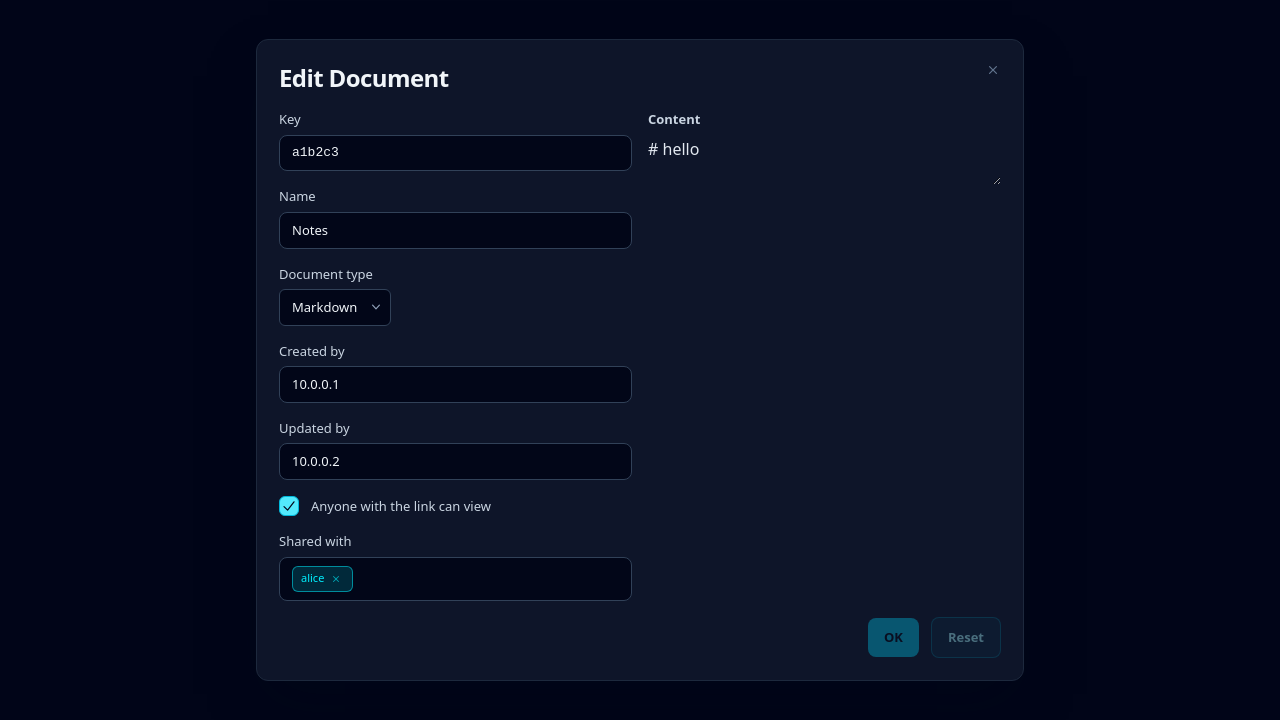
Scenario: EditDocumentDialog › reset restores the original share list
This screenshot has width=1280, height=720.
Click the button named "Remove alice".
click(336, 579)  # box [324,567,348,591]
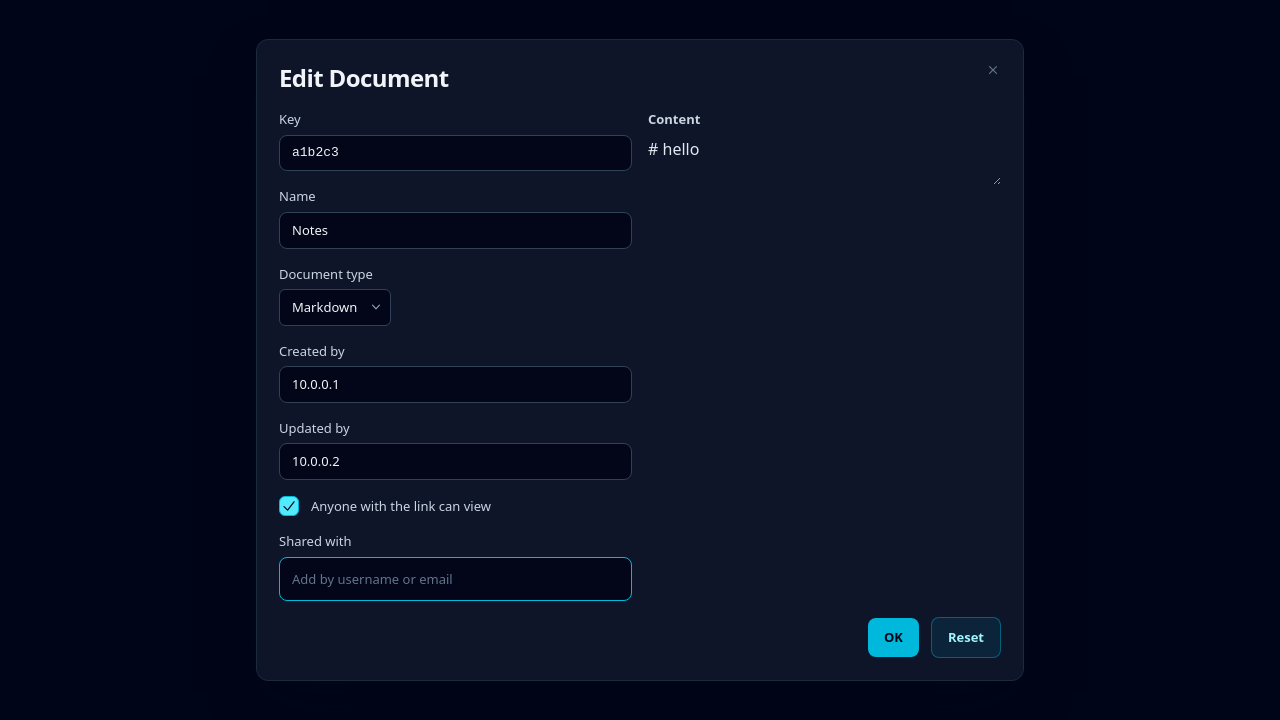
Expected: the text "alice" is gone
Click the button "Reset".
click(966, 637)  # box [931,617,1001,658]
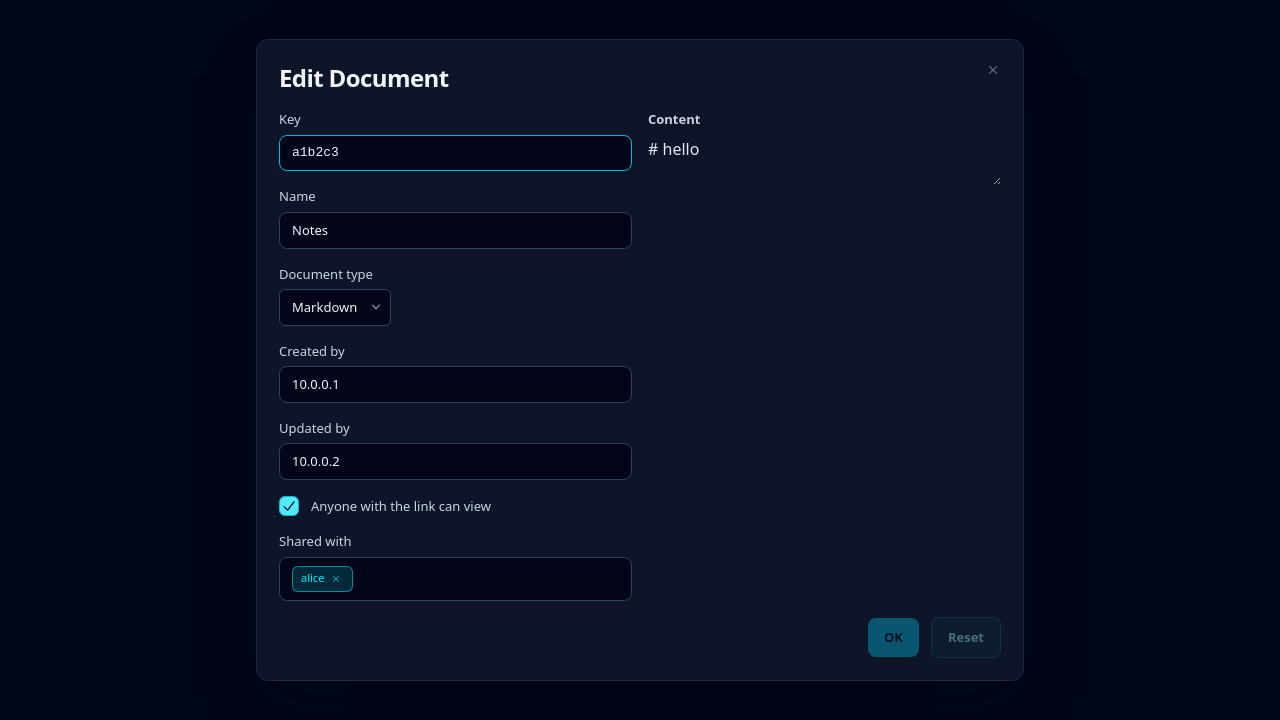
Expected: the text "alice" is shown, [292,566,353,592]
Expected: the button "OK" is disabled, [868,618,919,657]
